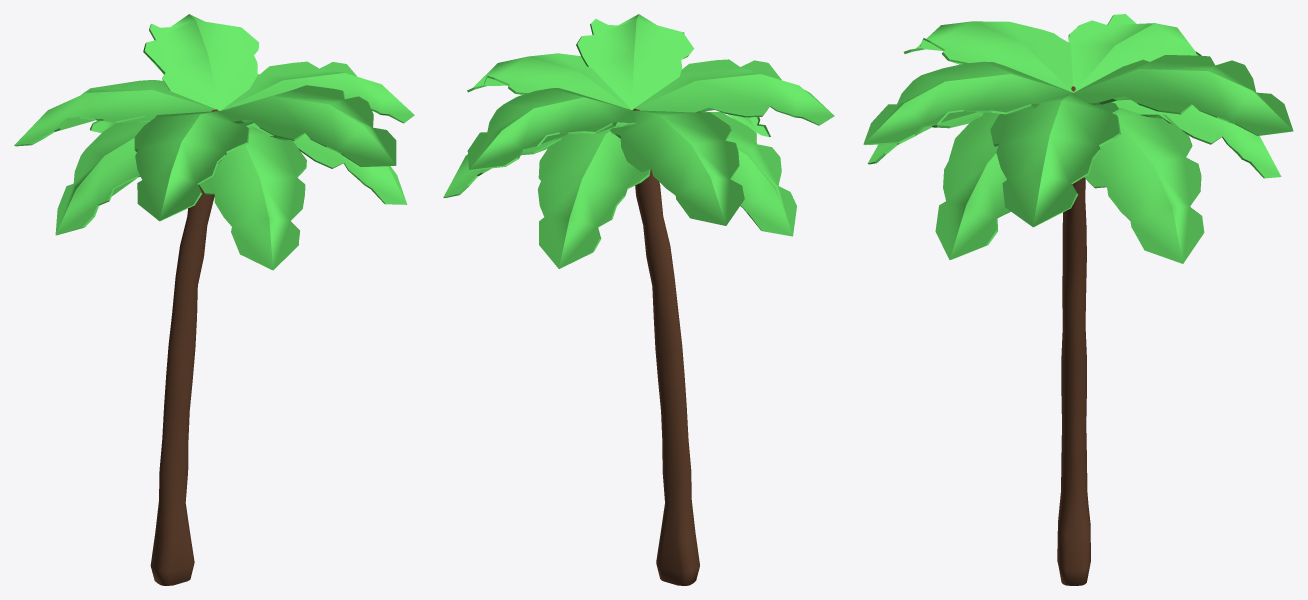
Rendered from Palm_Tree.fbx.
3 renders of one model, left to right at view 1: azimuth 30°, elevation 25°; view 2: azimuth 150°, elevation 25°; view 3: azimuth 270°, elevation 25°, orthographic. The views are drawn at different scales.
Parts seen in each view (by area): view 1: Leaves, PalmTree1; view 2: Leaves, PalmTree1; view 3: Leaves, PalmTree1.
Part boxes in pixels (box(x1,y1,x2,y2)): Leaves: box(14, 14, 414, 270); PalmTree1: box(150, 109, 217, 585); Leaves: box(443, 14, 834, 268); PalmTree1: box(633, 108, 699, 585); Leaves: box(863, 14, 1293, 263); PalmTree1: box(1057, 86, 1090, 585).
Size of the model in its own units: 3.75 by 5.29 by 3.69.
